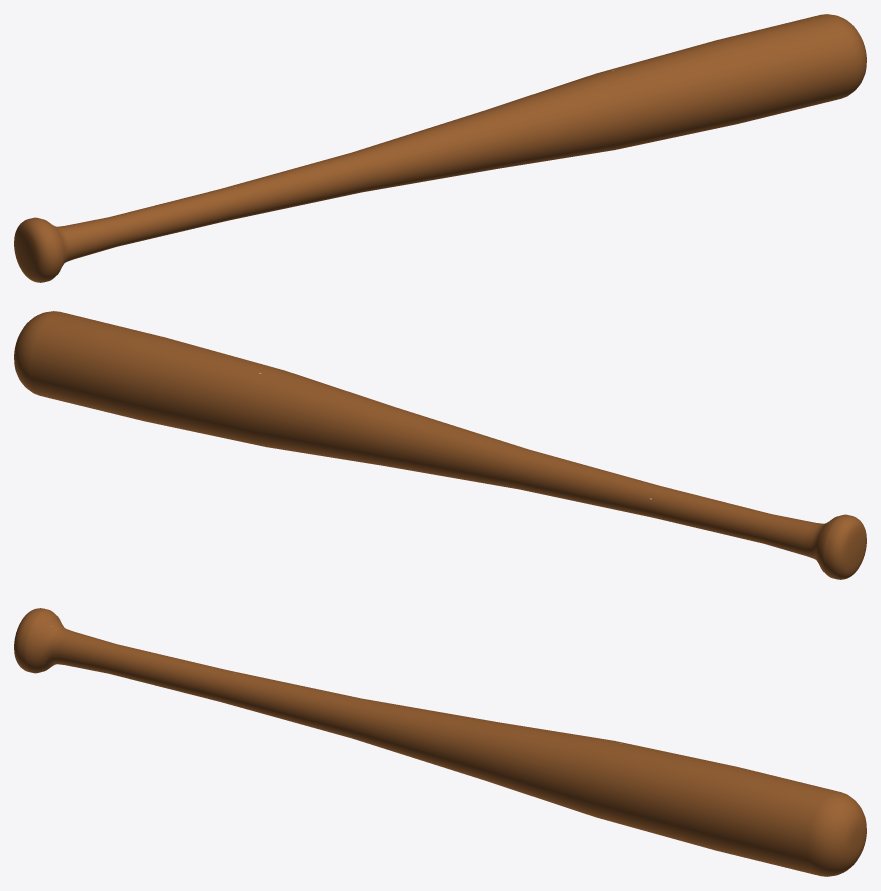
File: bat.fbx
The picture shows the model from 3 angles, top to bottom: view 1: azimuth 30°, elevation 25°; view 2: azimuth 150°, elevation 25°; view 3: azimuth 330°, elevation 25°; orthographic projection.
Parts seen in each view (by area): view 1: Cylinder; view 2: Cylinder; view 3: Cylinder.
Part boxes in pixels (x1,y1,x2,y2): Cylinder: (14, 14, 866, 282); Cylinder: (14, 311, 866, 579); Cylinder: (14, 608, 866, 876).
Bounding box in the file's own units: 461 × 41.63 × 41.63.
1 material, 1 textured.
